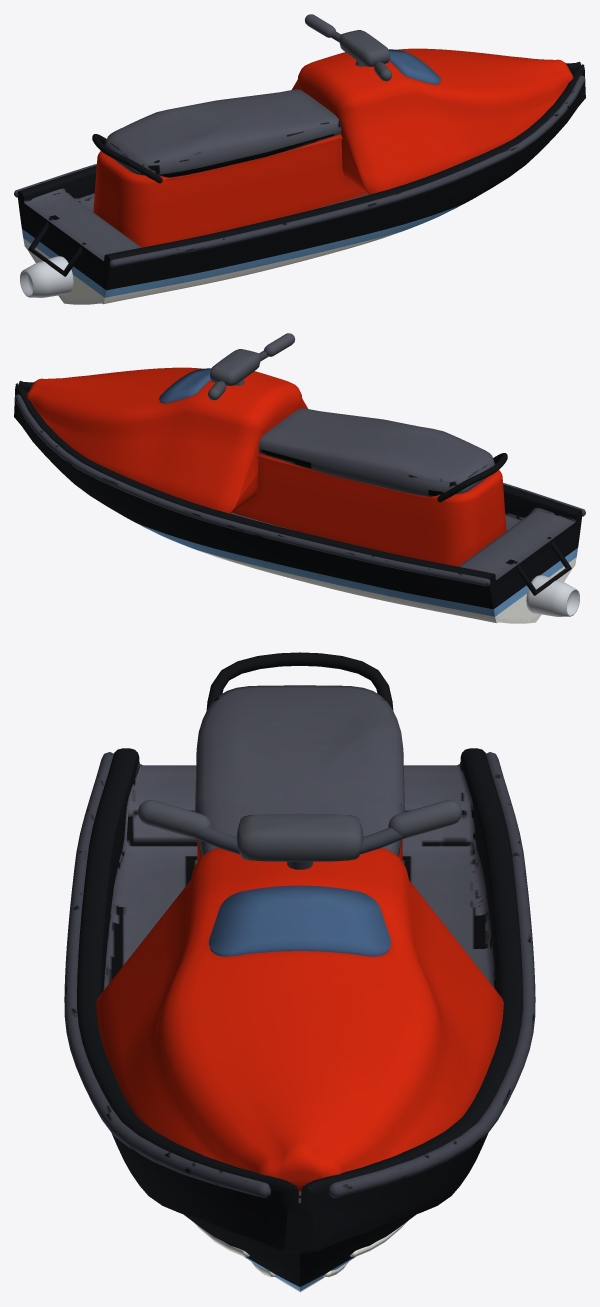
Rendered from sea-doo-explorer-pro-230.glb.
3 renders of one model, top to bottom at view 1: azimuth 30°, elevation 25°; view 2: azimuth 150°, elevation 25°; view 3: azimuth 270°, elevation 25°, orthographic. The views are drawn at different scales.
Parts seen in each view (by area): view 1: jet-ski_body, jet-ski_handlebar, jet-ski_jet_nozzle; view 2: jet-ski_body, jet-ski_handlebar, jet-ski_jet_nozzle; view 3: jet-ski_body, jet-ski_handlebar.
Part boxes in pixels (x1,y1,x2,y2): jet-ski_body: (14,48,585,304); jet-ski_handlebar: (305,14,391,81); jet-ski_jet_nozzle: (20,256,73,297); jet-ski_body: (14,367,585,623); jet-ski_handlebar: (208,333,294,400); jet-ski_jet_nozzle: (526,575,579,616); jet-ski_body: (64,652,535,1292); jet-ski_handlebar: (138,800,461,869).
Size of the model in its own units: 3.7 by 1.26 by 1.36.
Materials: 4 (1 with a texture image).
